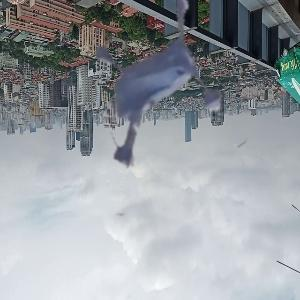drone: (54, 5, 260, 211)
